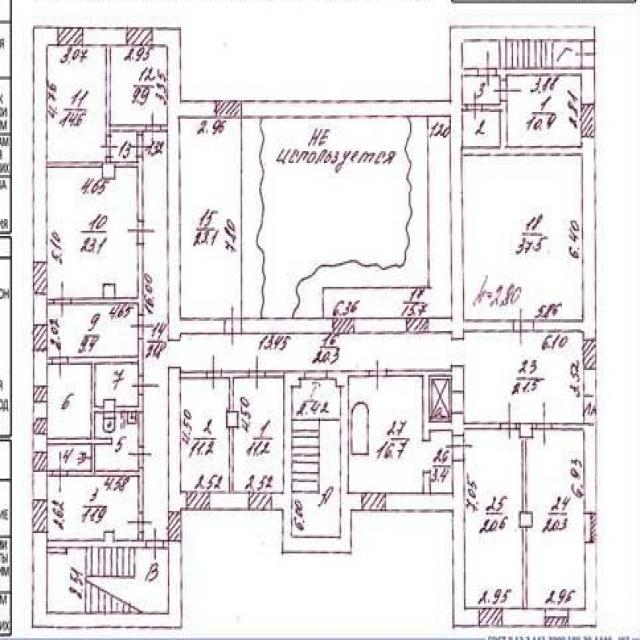Bathrooms: (350, 376, 422, 491), (96, 413, 137, 470), (47, 447, 91, 469)
Corridors: (464, 333, 581, 423), (181, 335, 451, 368), (145, 132, 166, 541), (49, 307, 138, 355), (96, 366, 137, 405), (464, 112, 499, 146), (431, 433, 451, 492), (464, 77, 499, 102), (113, 133, 136, 160)
Doors: (533, 400, 555, 448), (513, 307, 534, 348), (499, 398, 518, 443), (126, 219, 156, 246), (477, 48, 498, 86), (492, 78, 523, 103), (225, 302, 242, 347), (575, 42, 602, 69), (446, 435, 474, 461), (54, 279, 72, 319), (52, 450, 68, 494), (130, 374, 162, 396), (129, 314, 155, 341), (248, 353, 266, 391), (51, 345, 69, 381), (146, 526, 164, 561), (129, 133, 153, 159), (126, 511, 154, 533), (369, 358, 387, 392), (145, 108, 162, 144), (206, 354, 222, 391), (127, 446, 153, 468), (466, 89, 483, 121), (98, 133, 118, 157), (168, 341, 181, 368), (451, 341, 464, 365), (422, 441, 430, 473), (451, 393, 464, 412), (305, 369, 327, 380)
LBwalls: (242, 25, 596, 342), (154, 25, 224, 342), (273, 370, 362, 555), (386, 460, 480, 628), (31, 533, 183, 629), (32, 25, 57, 260), (582, 137, 597, 337), (167, 366, 186, 512), (583, 370, 597, 512), (241, 317, 333, 334), (354, 317, 407, 335), (502, 608, 545, 627), (209, 491, 248, 511), (84, 27, 126, 45), (463, 319, 514, 333), (534, 319, 583, 333), (581, 67, 596, 103), (33, 352, 48, 385), (33, 292, 47, 323), (31, 472, 48, 497), (430, 318, 452, 334), (451, 365, 464, 392), (451, 412, 464, 436), (102, 161, 115, 180), (226, 410, 238, 429), (33, 435, 47, 451), (33, 402, 47, 417), (520, 512, 533, 528), (521, 424, 533, 439), (103, 399, 115, 413), (104, 282, 115, 297)
Offices: (180, 119, 449, 317), (464, 158, 581, 319), (48, 168, 136, 298), (465, 429, 521, 609), (529, 431, 582, 608), (47, 46, 104, 161), (48, 477, 138, 540), (234, 378, 283, 490), (182, 378, 228, 490), (508, 77, 581, 147), (112, 48, 166, 123), (48, 366, 90, 438)
Stairs: (48, 549, 169, 612), (292, 380, 340, 536), (463, 43, 581, 66)
Walls: (47, 339, 145, 511), (462, 100, 583, 157), (72, 246, 145, 315), (387, 369, 452, 442), (105, 45, 147, 135), (47, 531, 146, 554), (116, 158, 144, 220), (221, 370, 248, 411), (498, 69, 581, 78), (522, 528, 529, 609), (48, 161, 102, 168), (522, 437, 527, 511), (229, 429, 234, 492), (553, 422, 584, 431), (464, 423, 501, 429), (182, 369, 206, 377), (422, 473, 430, 494), (266, 369, 284, 378), (463, 66, 478, 76), (349, 370, 368, 377), (163, 540, 169, 550), (462, 103, 467, 111), (47, 470, 53, 476), (48, 298, 53, 305), (162, 124, 167, 131), (47, 356, 51, 364)
Windows: (57, 27, 84, 47), (581, 104, 596, 138), (126, 27, 154, 45), (248, 491, 272, 511), (33, 499, 47, 533), (32, 323, 48, 352), (186, 490, 209, 510), (545, 608, 569, 627), (362, 492, 386, 511), (167, 511, 182, 541), (479, 608, 502, 627), (34, 260, 47, 293), (216, 101, 242, 117), (583, 339, 596, 371), (332, 317, 355, 335), (584, 513, 597, 543), (406, 318, 429, 334), (33, 451, 47, 472), (33, 417, 47, 436), (33, 384, 47, 403)
